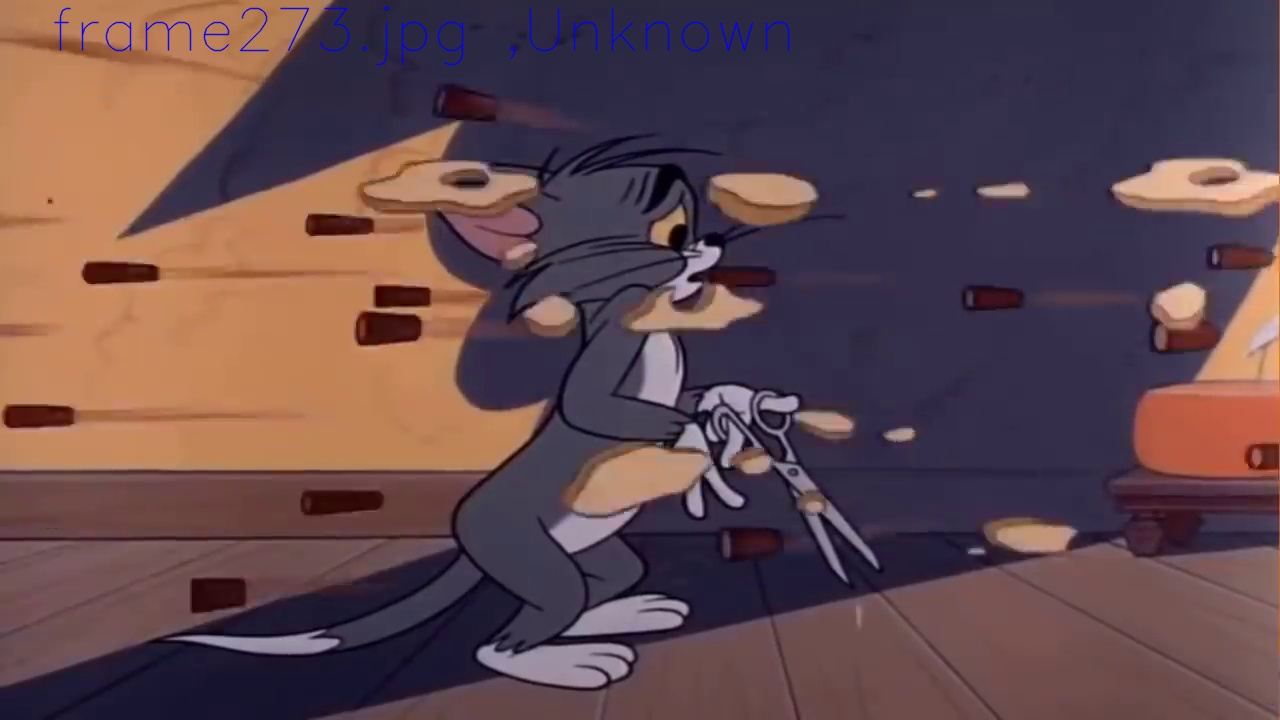sad: (650, 166, 720, 298)
